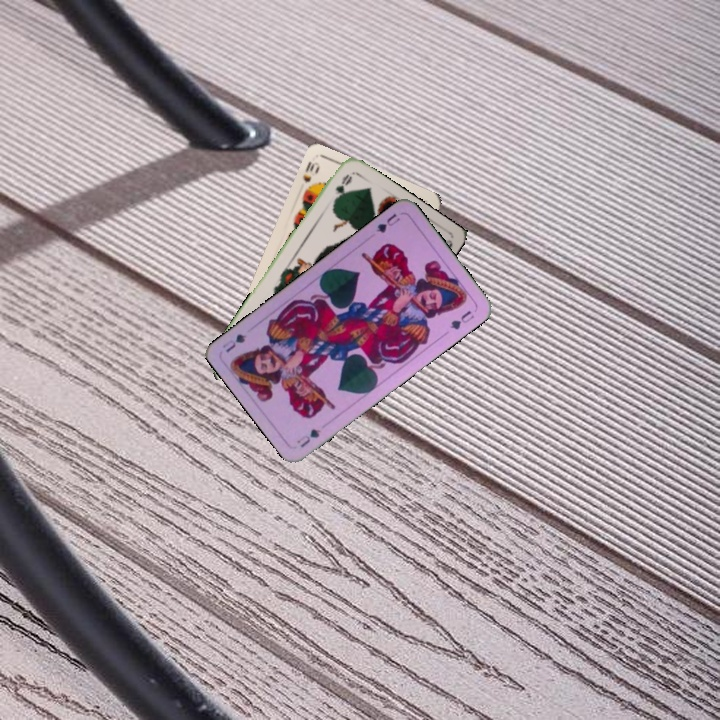GO: (329, 170, 355, 207)
GU: (372, 209, 403, 236), (292, 425, 323, 450)
S10: (298, 157, 322, 196)
